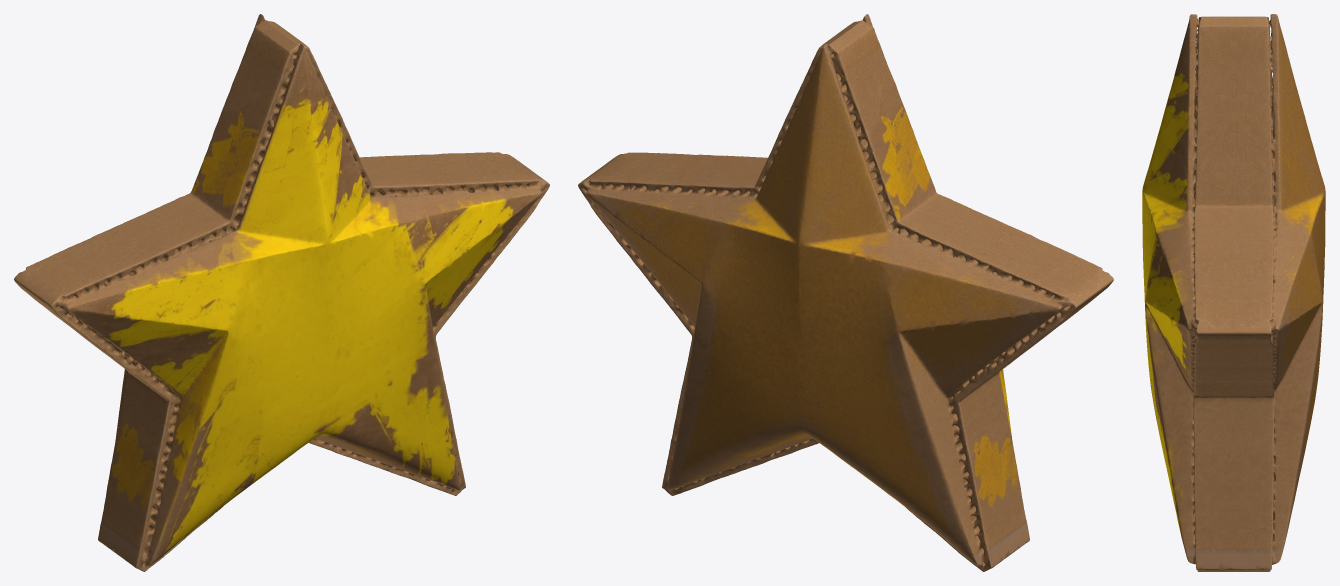
The model's file is cardboard_star.glb.
3 renders of one model, left to right at view 1: azimuth 30°, elevation 25°; view 2: azimuth 150°, elevation 25°; view 3: azimuth 270°, elevation 25°, orthographic.
Bounding box in the file's own units: 1.9 × 1.79 × 0.6137.
1 material, 1 textured.
